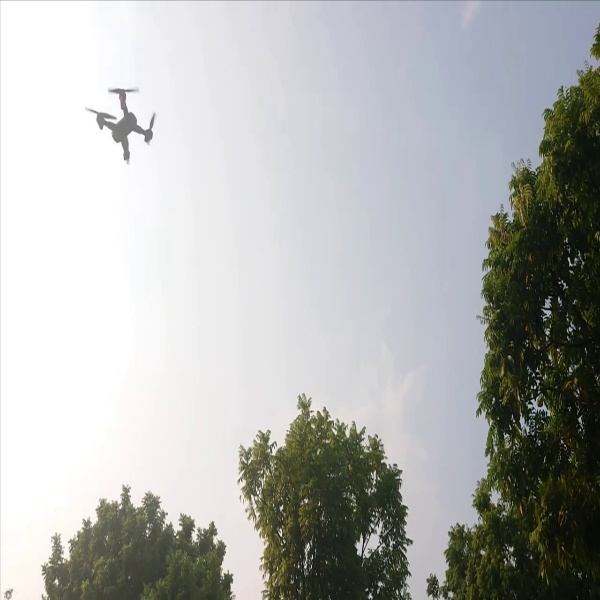drone: (78, 80, 170, 169)
